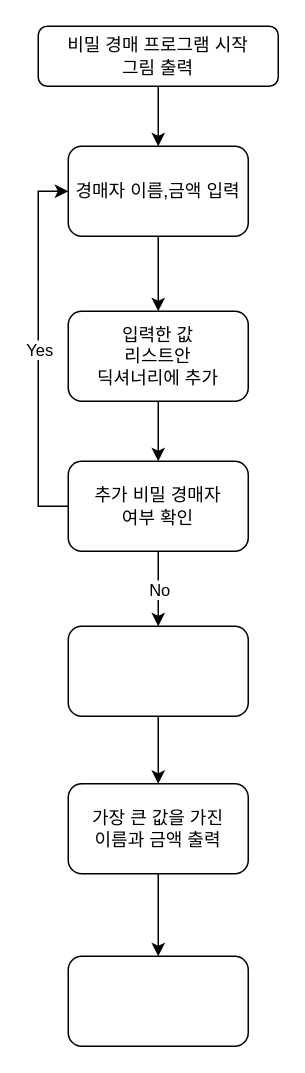
Some shapes in this 305 by 1073 pixel diagram are drawn without their labels. Each missing label, with the box of its shape:
list를 iter하여 딕셔너리 값 추출 및 가장 큰 값 탐색: (67, 625, 248, 716)
프로그램 종료: (67, 955, 248, 1046)
